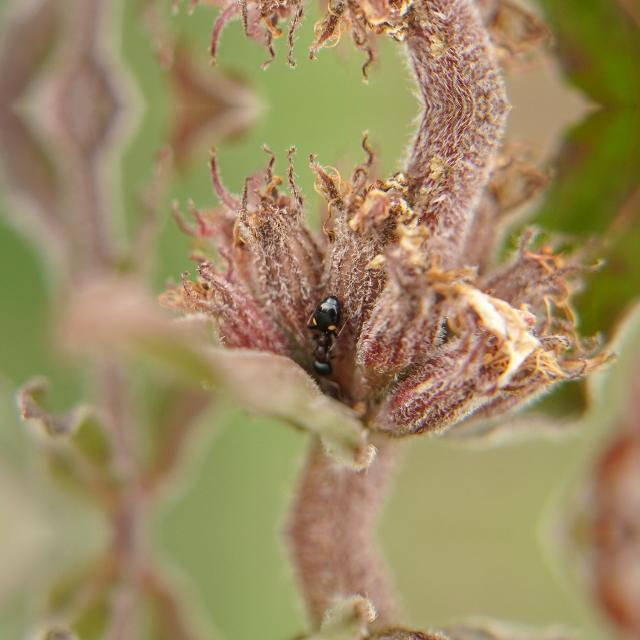Dolichoderus: (292, 285, 362, 381)
